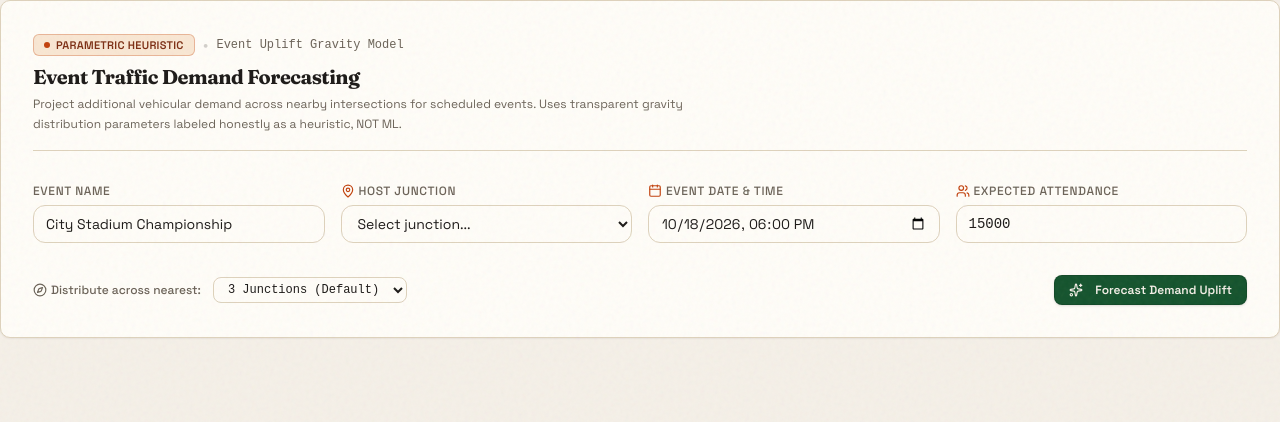
Test: EventDemandForecast Component › validates form inputs on submission
// Attempt submit without selecting junction
Click the button "Forecast Demand Uplift" at (1151, 290), box x1=1054 y1=275 x2=1247 y2=305
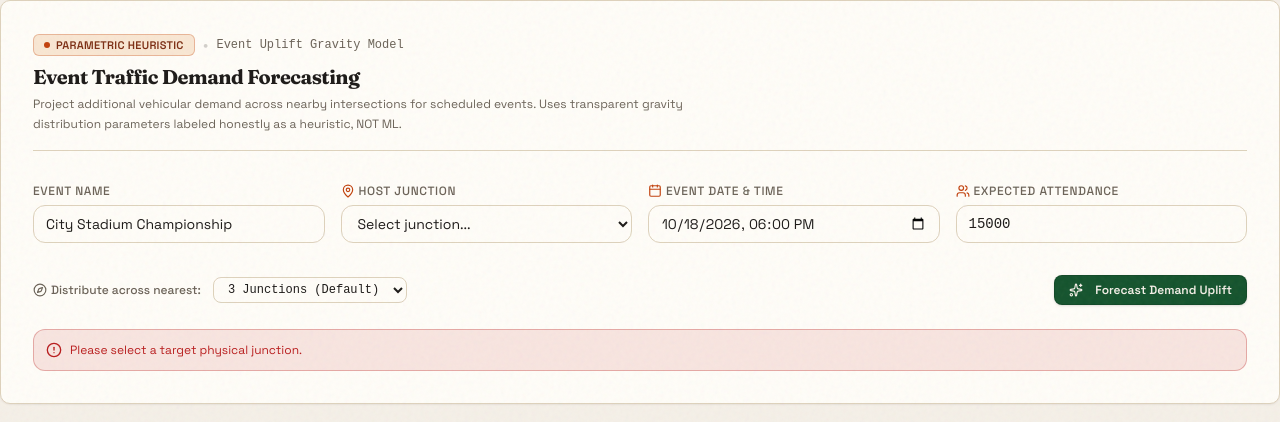
Now the text "Please select a target physical junction." is shown, box x1=70 y1=342 x2=302 y2=358
